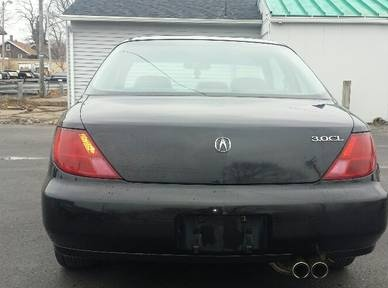acura: (43, 37, 385, 288)
